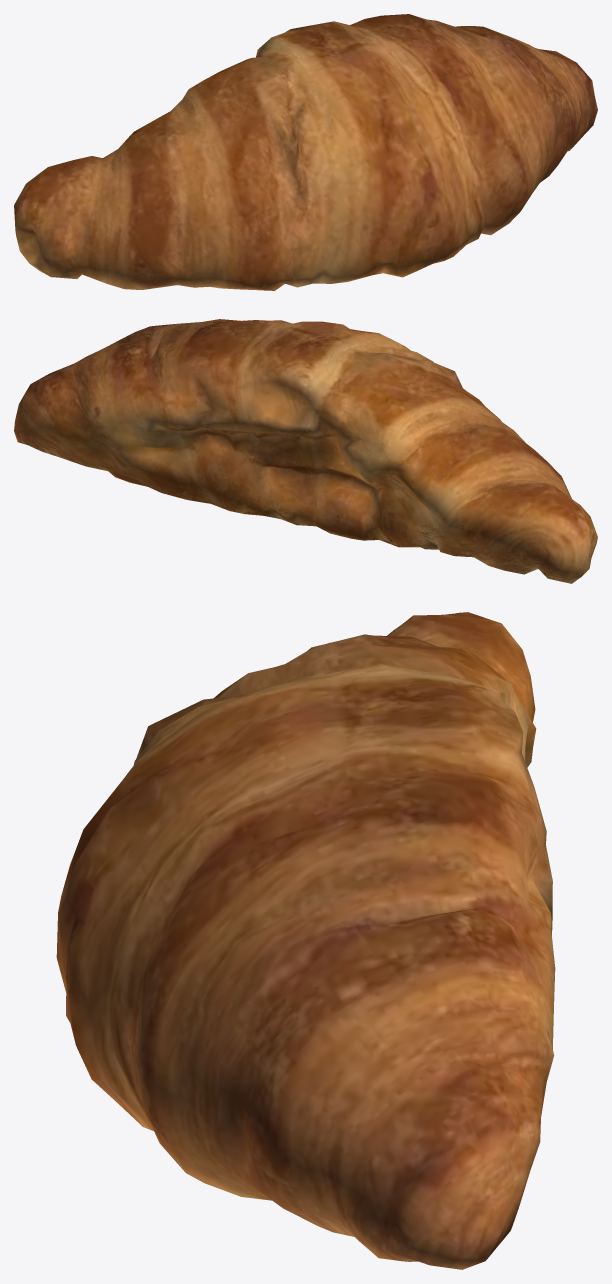
The model's file is croissant.glb.
3 views of the same model, one above another, from view 1: azimuth 30°, elevation 25°; view 2: azimuth 150°, elevation 25°; view 3: azimuth 270°, elevation 25° (orthographic). The views are drawn at different scales.
Visible parts, largest first — view 1: croissant; view 2: croissant; view 3: croissant.
Boxes of the visible parts, x1=… form: croissant: x1=14, y1=14, x2=597, y2=290; croissant: x1=14, y1=319, x2=597, y2=583; croissant: x1=56, y1=612, x2=555, y2=1269.
Size of the model in its own units: 0.2 by 0.062 by 0.0755.
Materials: 1 (1 with a texture image).
